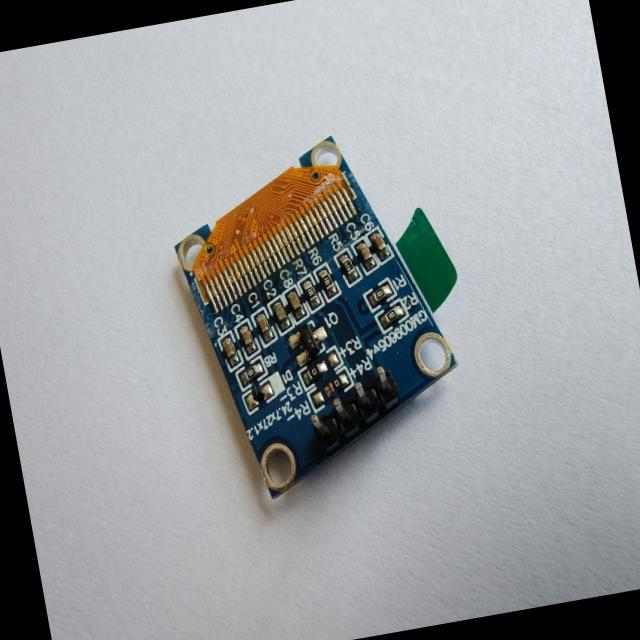oled: (166, 103, 494, 521)
